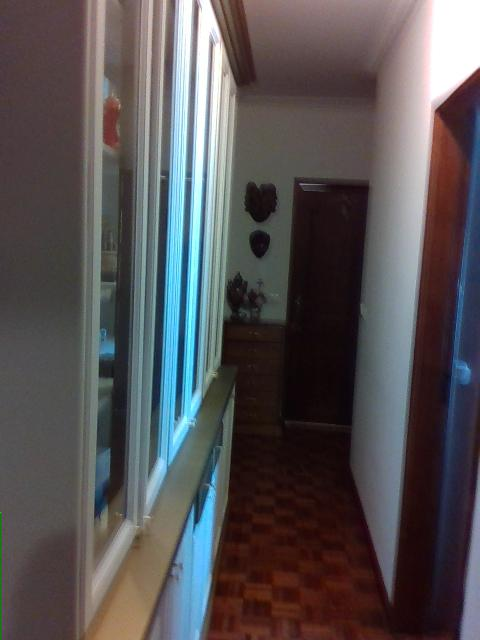door: (274, 69, 479, 639)
